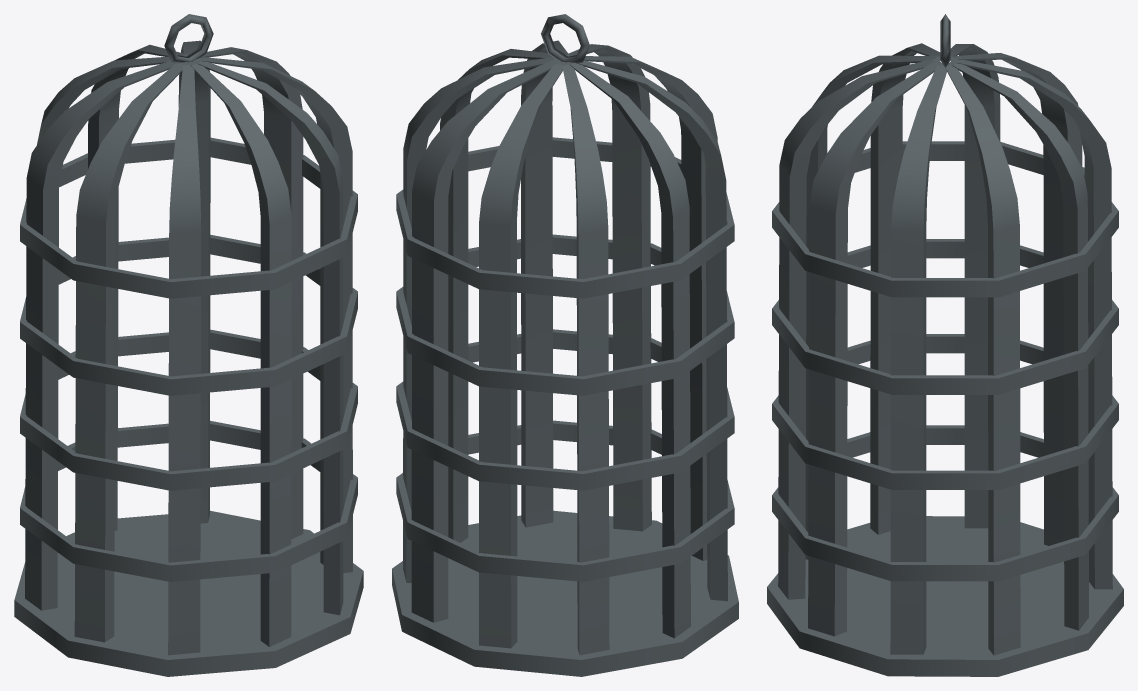
Rendered from cage.glb.
3 renders of one model, left to right at view 1: azimuth 30°, elevation 25°; view 2: azimuth 150°, elevation 25°; view 3: azimuth 270°, elevation 25°, orthographic.
Parts seen in each view (by area): view 1: Object_2; view 2: Object_2; view 3: Object_2.
Boxes of the visible parts, <box> form: Object_2: <box>14,14,363,676</box>; Object_2: <box>392,14,738,676</box>; Object_2: <box>767,14,1123,676</box>.
Bounding box in the file's own units: 55.77 × 106 × 58.37.
Materials: 1 (1 with a texture image).
